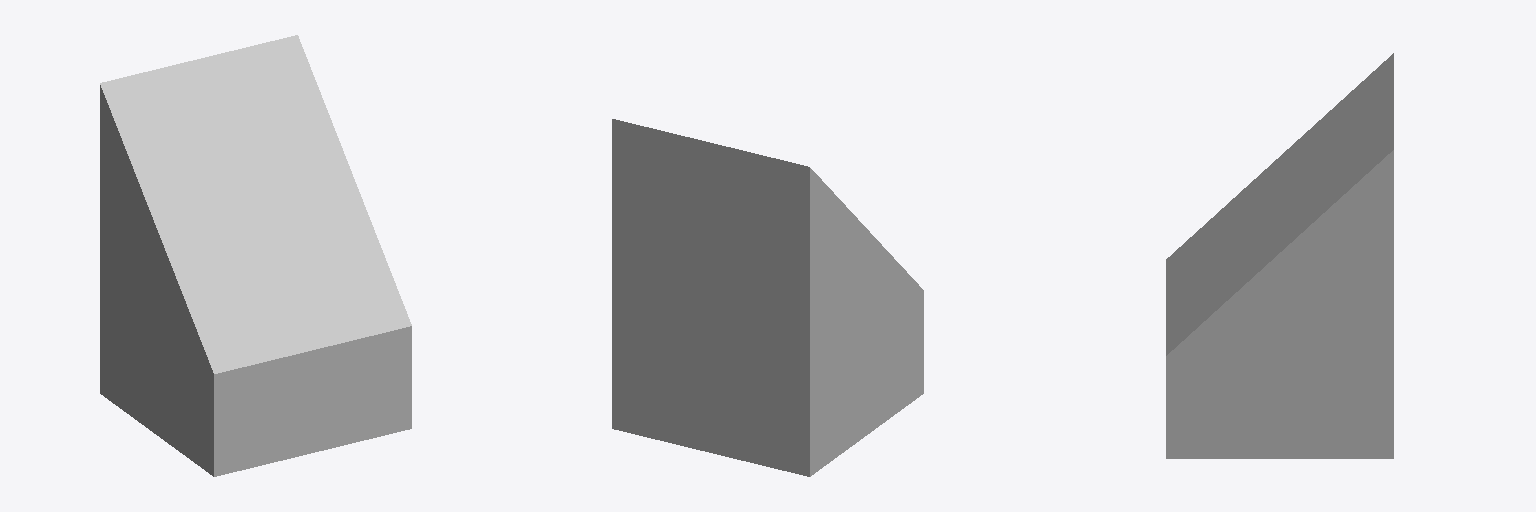
Rendered from conveyor_ramp_up.obj.
3 renders of one model, left to right at view 1: azimuth 30°, elevation 25°; view 2: azimuth 150°, elevation 25°; view 3: azimuth 270°, elevation 25°, orthographic.
Visible parts, largest first — view 1: polySurface12; view 2: polySurface12; view 3: polySurface12.
Part boxes in pixels (x1,y1,x2,y2): polySurface12: (100,35,411,476); polySurface12: (612,119,923,476); polySurface12: (1166,53,1393,458).
Bounding box in the file's own units: 1 × 1.5 × 1.